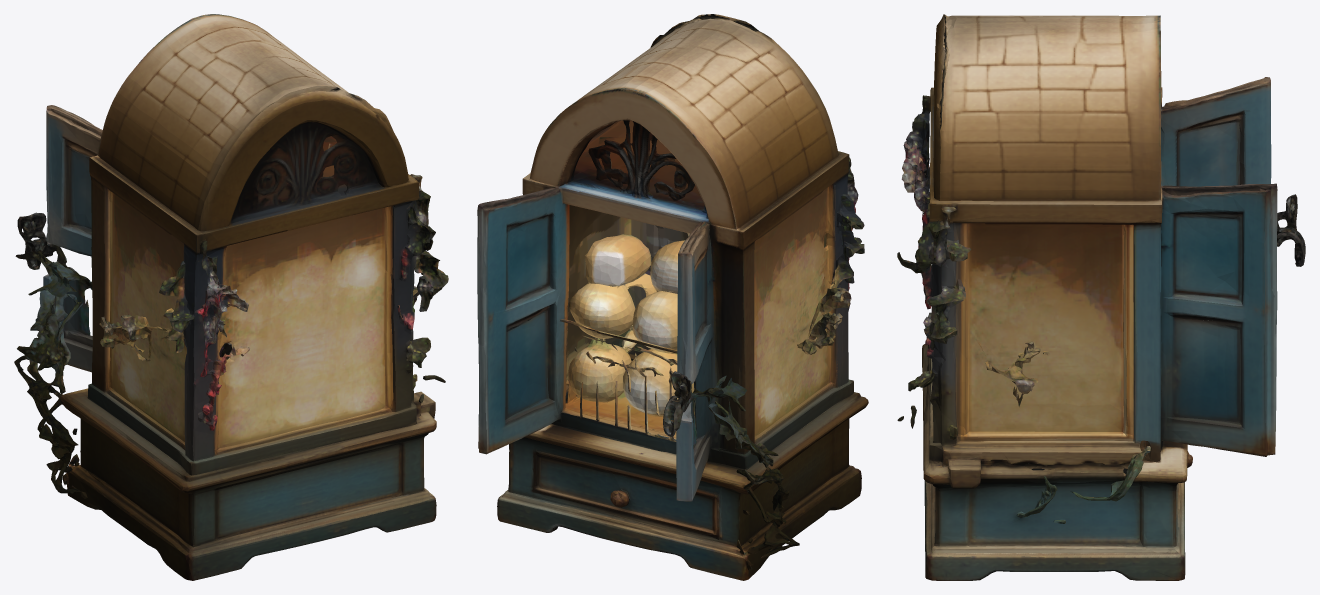
3 renders of one model, left to right at view 1: azimuth 30°, elevation 25°; view 2: azimuth 150°, elevation 25°; view 3: azimuth 270°, elevation 25°, orthographic. The views are drawn at different scales.
Parts seen in each view (by area): view 1: world; view 2: world; view 3: world.
Part boxes in pixels (box(x1,y1,x2,y2)): world: box(14, 14, 448, 580); world: box(477, 14, 868, 580); world: box(897, 14, 1305, 580).
Size of the model in its own units: 0.7294 by 0.9989 by 0.7508.
1 material, 1 textured.
